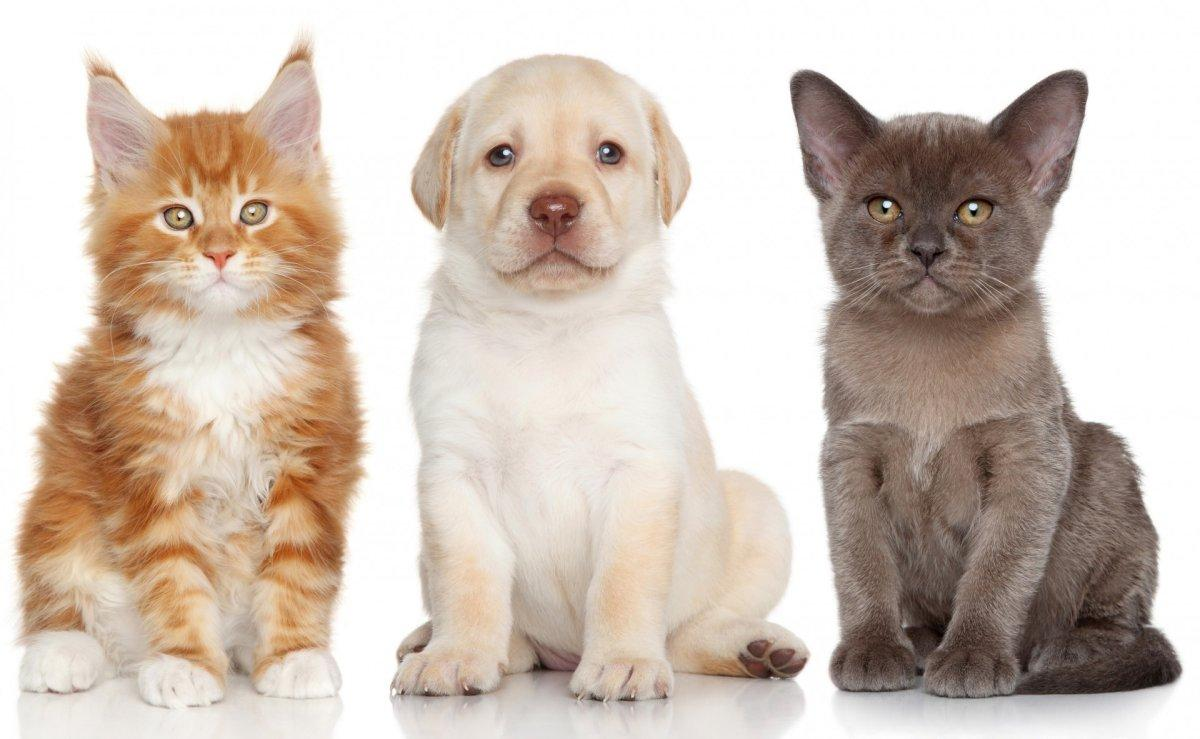animals: (764, 62, 1186, 726), (403, 53, 783, 723), (19, 32, 363, 726)
